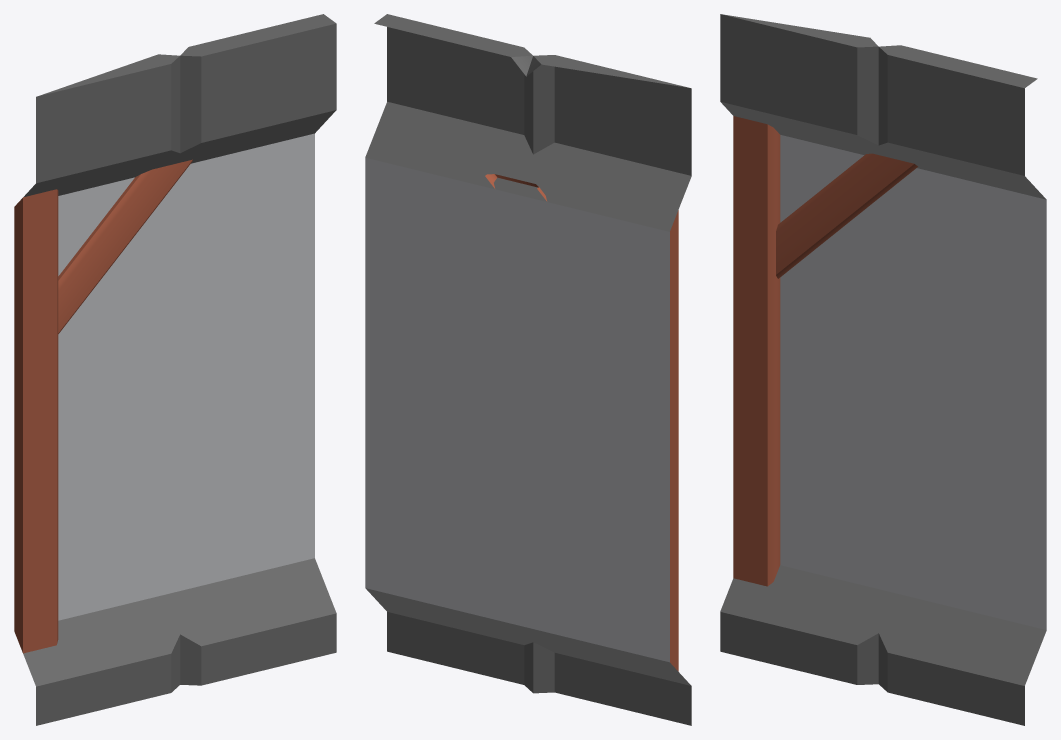
The model's file is Wall_Scaffold_Half.fbx.
The picture shows the model from 3 angles, left to right: view 1: azimuth 30°, elevation 25°; view 2: azimuth 150°, elevation 25°; view 3: azimuth 330°, elevation 25°; orthographic projection.
Visible parts, largest first — view 1: Wall_Scaffold; view 2: Wall_Scaffold; view 3: Wall_Scaffold.
Boxes of the visible parts, x1,y1,x2,y2 form: Wall_Scaffold: [14, 14, 336, 725]; Wall_Scaffold: [365, 14, 691, 725]; Wall_Scaffold: [720, 14, 1046, 725].
Bounding box in the file's own units: 0.7364 × 1.47 × 0.0921.
1 material, 1 textured.
